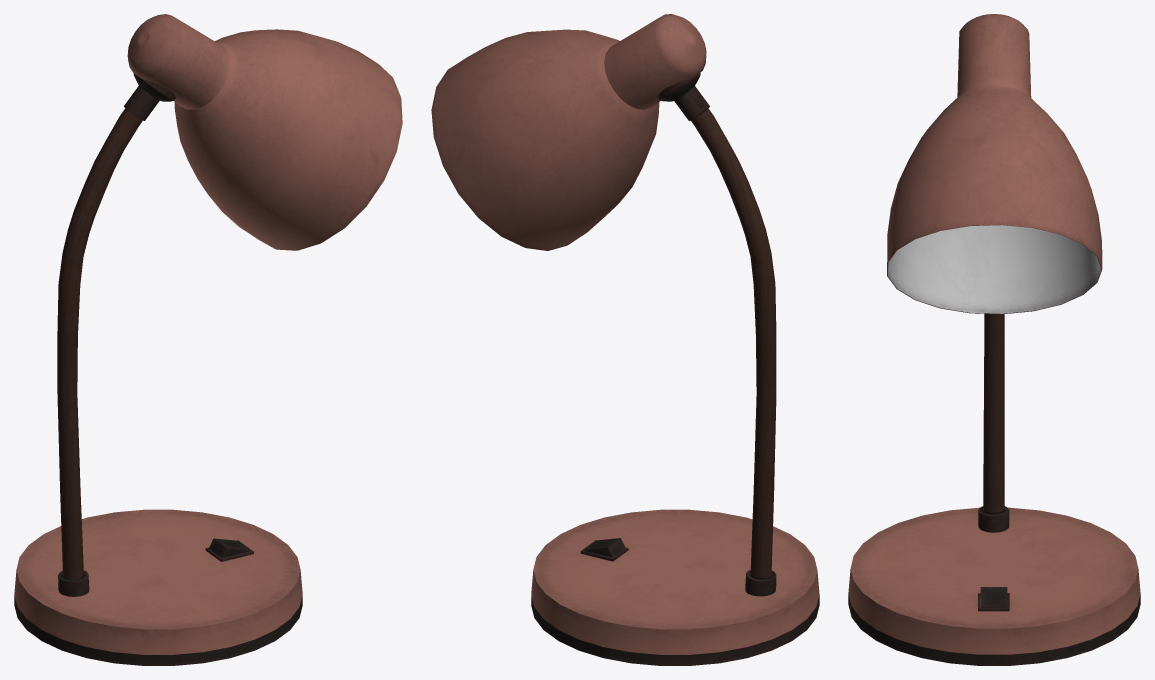
The model's file is SM_TableLamp_A.fbx.
3 views of the same model, side by side, from view 1: azimuth 30°, elevation 25°; view 2: azimuth 150°, elevation 25°; view 3: azimuth 270°, elevation 25° (orthographic).
Parts seen in each view (by area): view 1: SM_TableLamp_A; view 2: SM_TableLamp_A; view 3: SM_TableLamp_A.
Boxes of the visible parts, x1,y1,x2,y2 form: SM_TableLamp_A: (14, 14, 402, 665); SM_TableLamp_A: (431, 14, 819, 665); SM_TableLamp_A: (848, 14, 1140, 665).
Size of the model in its own units: 24.79 by 17.79 by 39.84.
Materials: 1 (1 with a texture image).
